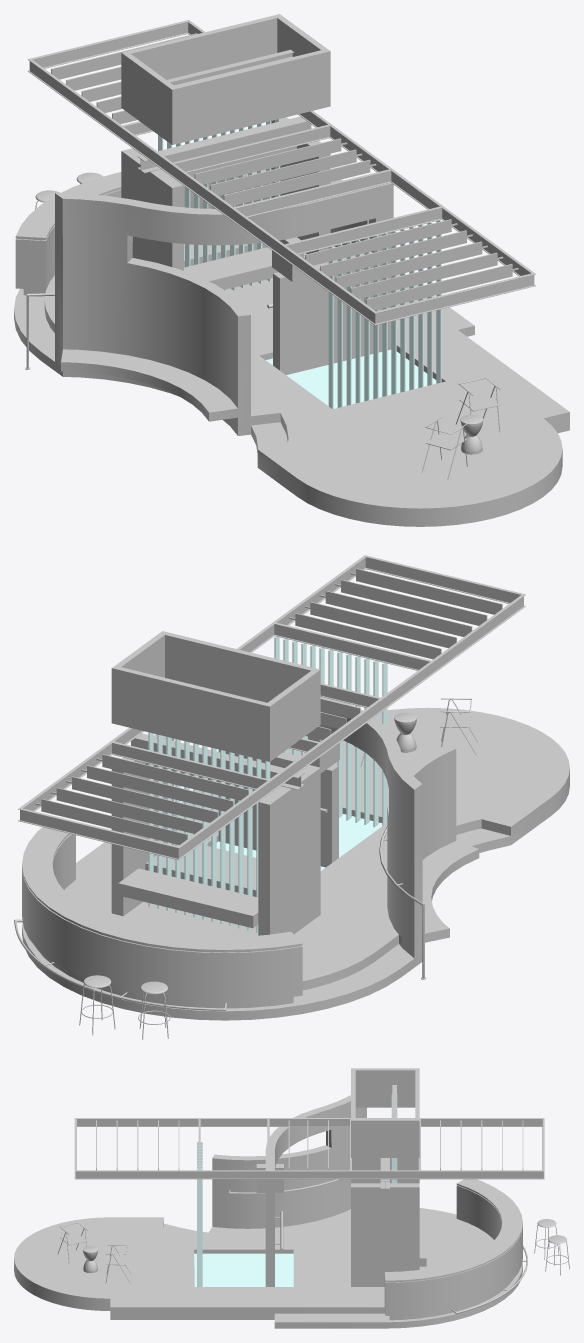
Rendered from booth.glb.
3 renders of one model, top to bottom at view 1: azimuth 30°, elevation 25°; view 2: azimuth 150°, elevation 25°; view 3: azimuth 270°, elevation 25°, orthographic. The views are drawn at different scales.
Parts seen in each view (by area): view 1: Box1149; view 2: Box1149; view 3: Box1149.
Part boxes in pixels (left/top/right/bottom): Box1149: left=14, top=14, right=569, bottom=526; Box1149: left=14, top=555, right=569, bottom=1039; Box1149: left=14, top=1068, right=569, bottom=1328.
Bounding box in the file's own units: 6.35 × 4.3 × 12.12.
